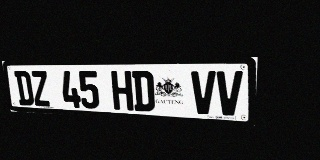4: (60, 71, 82, 108)
5: (78, 71, 100, 109)
D: (132, 71, 155, 112), (14, 71, 35, 106)
H: (111, 71, 134, 111)
V: (216, 71, 243, 116), (191, 71, 216, 115)
Z: (30, 71, 51, 107)
